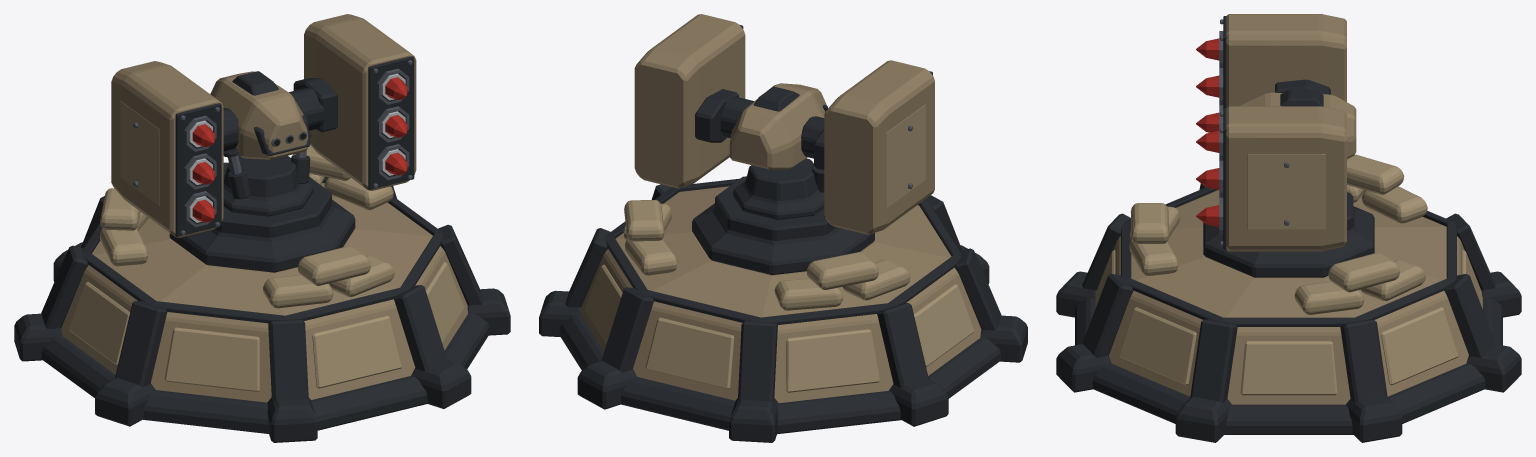
File: lm2-lanza-n5.glb
The picture shows the model from 3 angles, left to right: view 1: azimuth 30°, elevation 25°; view 2: azimuth 150°, elevation 25°; view 3: azimuth 270°, elevation 25°; orthographic projection.
Visible parts, largest first — view 1: casco, gun_pitch, turret_yaw, rocket_04, rocket_06, rocket_05, rocket_03, rocket_02, rocket_01; view 2: casco, gun_pitch, turret_yaw; view 3: casco, gun_pitch.
Part boxes in pixels (x1,y1,x2,y2): casco: (14,145,510,442); gun_pitch: (111,14,416,237); turret_yaw: (223,132,313,216); rocket_04: (381,149,407,175); rocket_06: (381,73,407,100); rocket_05: (381,111,407,138); rocket_03: (189,120,214,147); rocket_02: (189,158,214,184); rocket_01: (189,196,214,222); casco: (539,163,1027,442); gun_pitch: (634,14,934,234); turret_yaw: (733,158,824,219); casco: (1056,154,1521,442); gun_pitch: (1219,14,1356,251).
Bounding box in the file's own units: 1 × 0.657 × 1.
